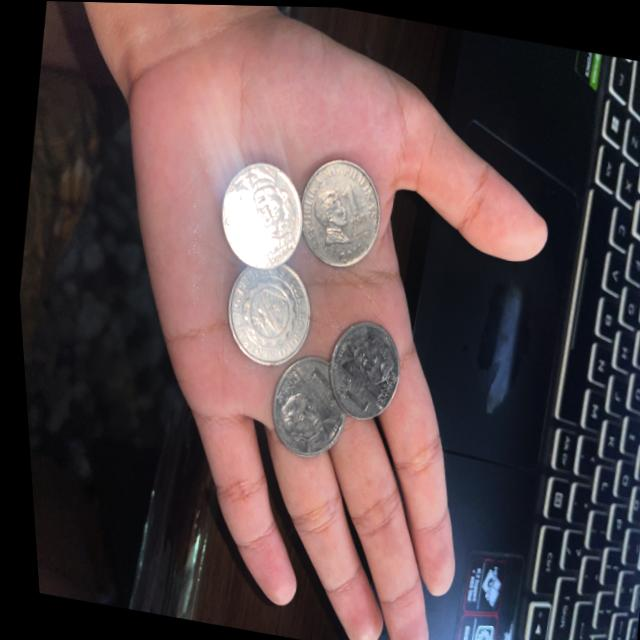1_New_Front: (268, 360, 345, 445), (328, 330, 396, 413)
1_Old_Back: (227, 274, 301, 353)
1_Old_Front: (303, 170, 370, 258)
